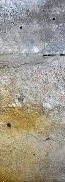Corrosion: (1, 88, 65, 182)
